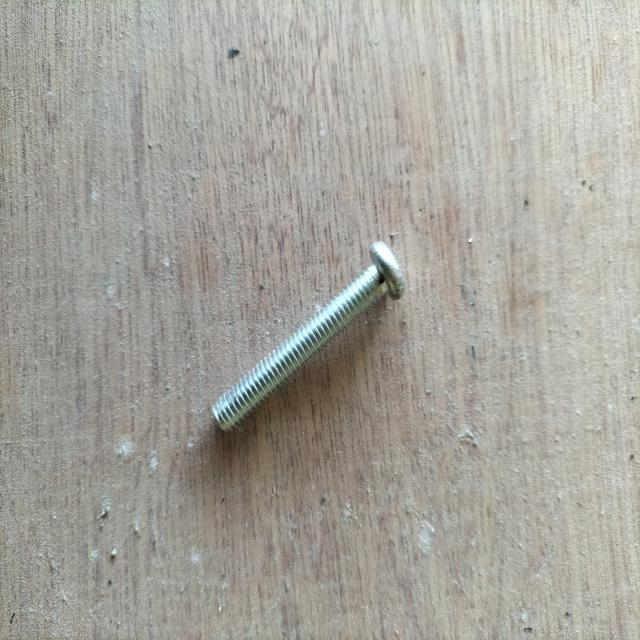bolt: (214, 240, 406, 432)
